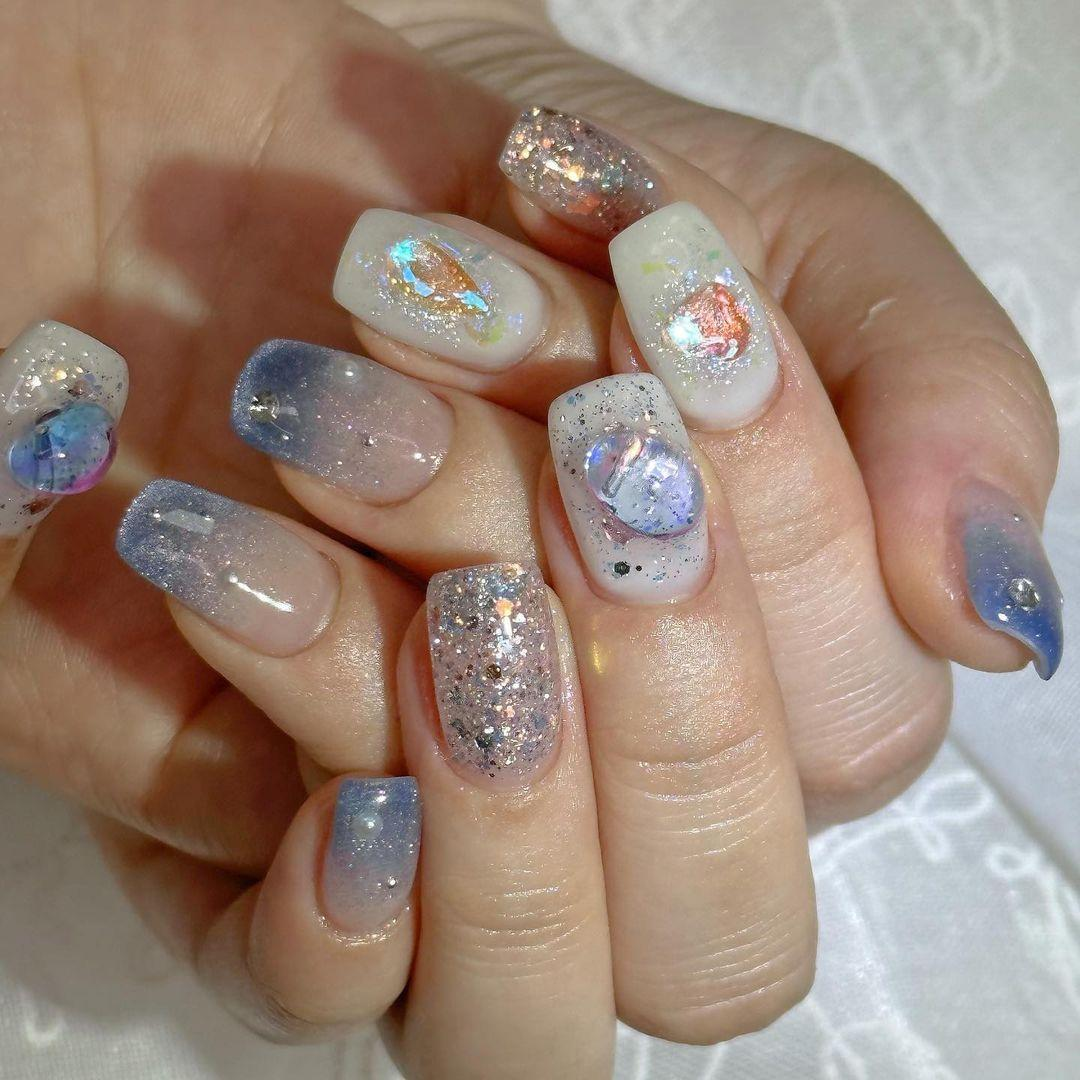nail: (606, 199, 783, 432), (114, 476, 341, 657), (546, 370, 716, 606), (228, 336, 455, 506), (330, 205, 551, 373), (423, 559, 565, 790), (945, 474, 1064, 681), (496, 102, 667, 239), (0, 317, 129, 497), (313, 773, 422, 942)
